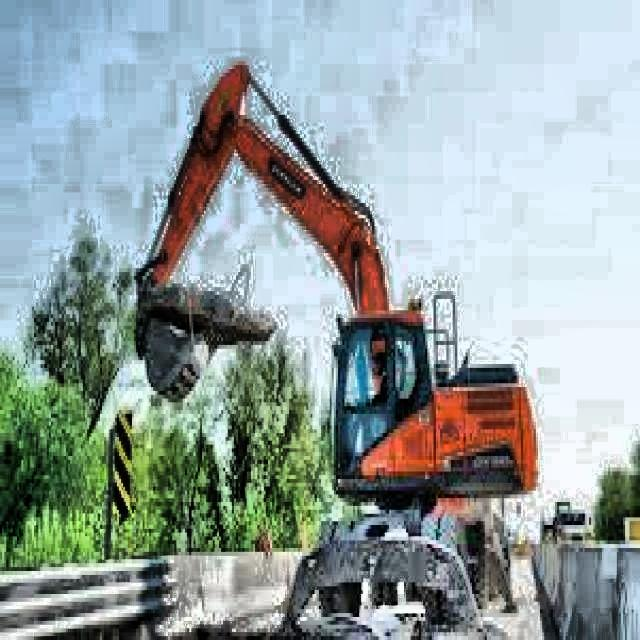bull_dozer/loader/grader: (129, 53, 542, 640)
person: (368, 348, 388, 402)
